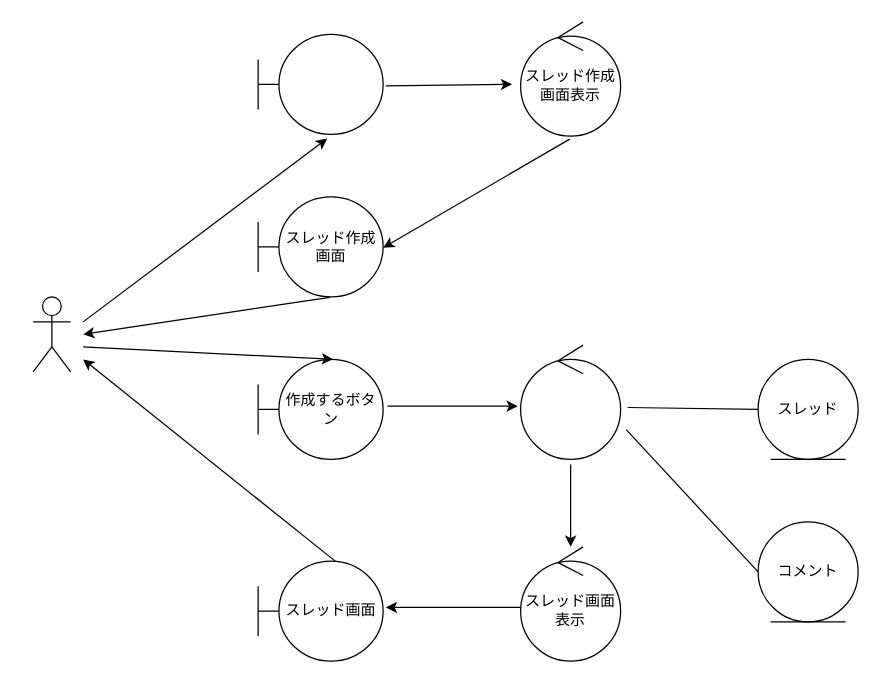
This 880x684 diagram has some shape labels left out. Each missing label, with the centre of its shape:
スレッド作成: [570,401]
スレッド作成ボタン: [320,83]
ユーザー: [51,334]
